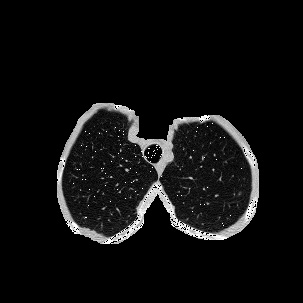PN: (238, 191, 242, 195)
